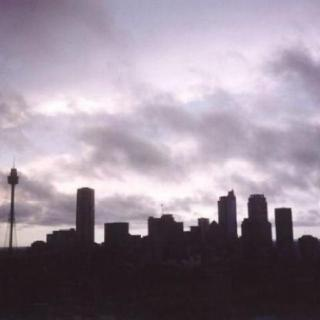Stratus: (0, 0, 320, 188)
